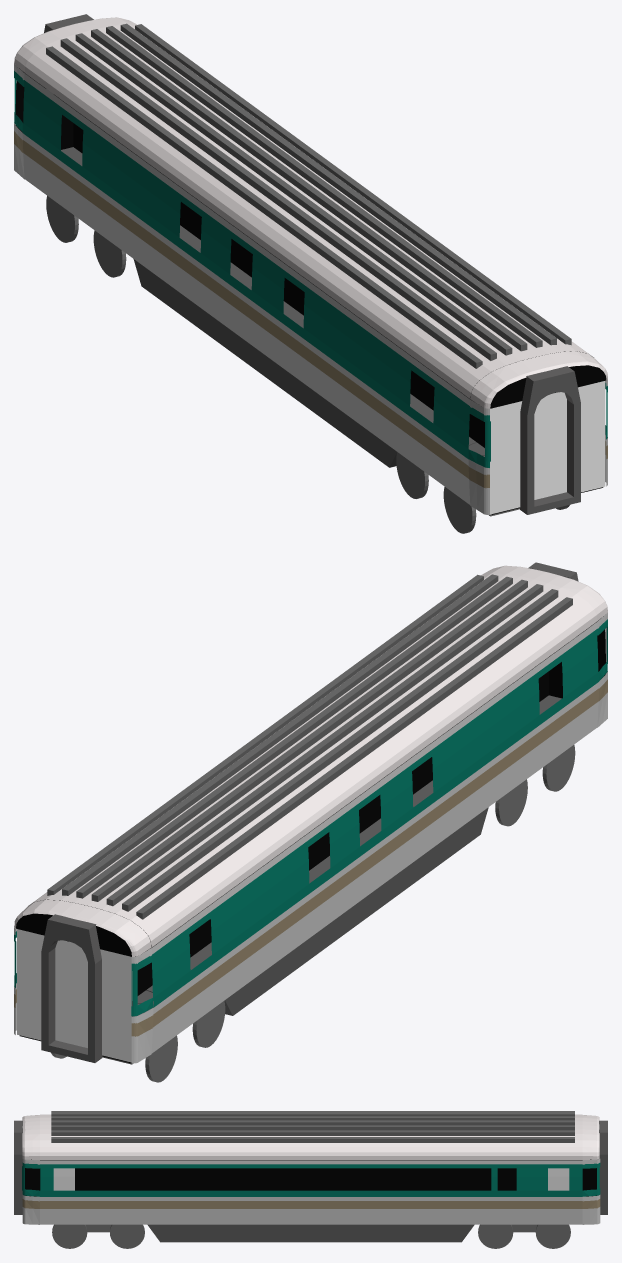
The model's file is br-mk3-sle-fgw1.dae.
The picture shows the model from 3 angles, top to bottom: view 1: azimuth 30°, elevation 25°; view 2: azimuth 150°, elevation 25°; view 3: azimuth 270°, elevation 25°; orthographic projection. The views are drawn at different scales.
Parts seen in each view (by area): view 1: Suzanne_001, Plane_007, Plane_001, Cube_010, Cube, Cube_011, Cube_008, Cube_009, Cube_004, Cube_002, Tube_003, Plane_022 (+19 smaller); view 2: Suzanne_001, Plane_007, Plane_100, Cube, Cube_010, Cube_011, Cube_008, Cube_009, Cube_004, Cube_002, Tube_002, Plane_022 (+19 smaller); view 3: Plane_134, Plane_111, Suzanne_001, Cube, Plane_008, Cube_002, Cube_003, Cube_004, Cube_008, Plane_135, Plane_136, Cube_009 (+20 smaller).
Boxes of the visible parts, x1=… form: Suzanne_001: x1=24, y1=24, x2=593, y2=398; Plane_007: x1=23, y1=140, x2=470, y2=504; Plane_001: x1=490, y1=381, x2=605, y2=514; Cube_010: x1=60, y1=38, x2=496, y2=360; Cube: x1=133, y1=259, x2=396, y2=467; Cube_011: x1=46, y1=46, x2=482, y2=368; Cube_008: x1=91, y1=29, x2=527, y2=351; Cube_009: x1=75, y1=33, x2=512, y2=355; Cube_004: x1=106, y1=26, x2=542, y2=347; Cube_002: x1=120, y1=23, x2=556, y2=345; Tube_003: x1=520, y1=366, x2=580, y2=514; Plane_022: x1=22, y1=123, x2=468, y2=459; Suzanne_001: x1=28, y1=573, x2=596, y2=947; Plane_007: x1=151, y1=688, x2=598, y2=1053; Plane_100: x1=17, y1=929, x2=132, y2=1062; Cube: x1=224, y1=807, x2=488, y2=1015; Cube_010: x1=122, y1=589, x2=558, y2=911; Cube_011: x1=136, y1=597, x2=572, y2=919; Cube_008: x1=91, y1=579, x2=527, y2=901; Cube_009: x1=106, y1=584, x2=543, y2=906; Cube_004: x1=76, y1=576, x2=512, y2=898; Cube_002: x1=62, y1=574, x2=498, y2=895; Tube_002: x1=41, y1=914, x2=102, y2=1062; Plane_022: x1=153, y1=671, x2=599, y2=1007; Plane_134: x1=40, y1=1201, x2=582, y2=1224; Plane_111: x1=25, y1=1159, x2=596, y2=1196; Suzanne_001: x1=40, y1=1114, x2=582, y2=1159; Cube: x1=147, y1=1224, x2=474, y2=1242; Plane_008: x1=39, y1=1190, x2=582, y2=1196; Cube_002: x1=51, y1=1130, x2=574, y2=1135; Cube_003: x1=51, y1=1137, x2=574, y2=1142; Cube_004: x1=51, y1=1125, x2=574, y2=1130; Cube_008: x1=51, y1=1120, x2=574, y2=1125; Plane_135: x1=40, y1=1160, x2=582, y2=1164; Plane_136: x1=40, y1=1164, x2=582, y2=1168; Cube_009: x1=51, y1=1116, x2=574, y2=1120.
Size of the model in its own units: 2.07 by 13.39 by 2.81.
